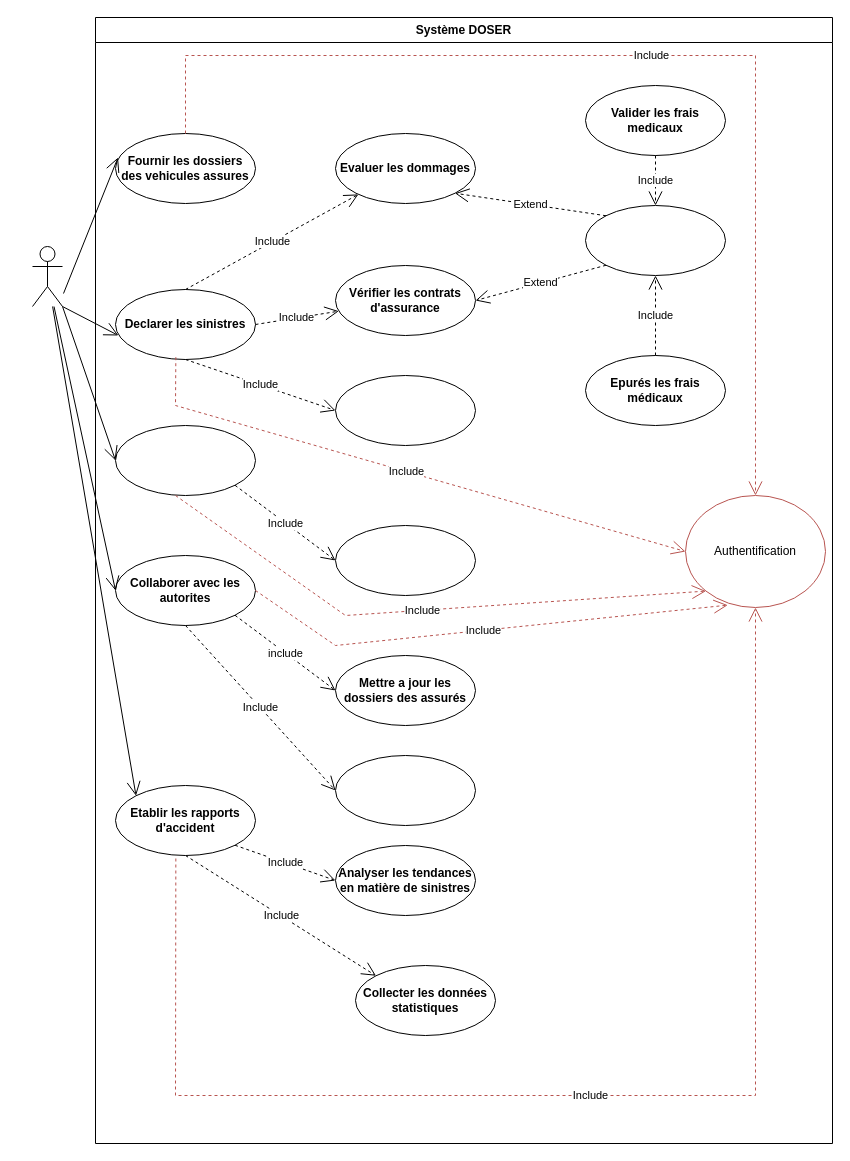
Some shapes in this 850 by 1161 pixel diagram are drawn without their labels. Here are the shapes that lost their labels. From the top down, the box of each, then its label:
(584, 204, 726, 276): Indemniser les victimes
(32, 246, 62, 306): Assurance
(334, 374, 476, 446): Associer les victimes aux accidents
(114, 424, 256, 496): Suivre les victimes
(334, 524, 476, 596): Communiquer avec les assures
(334, 754, 476, 826): Fournir les dossiers des véhicules des assur é s
